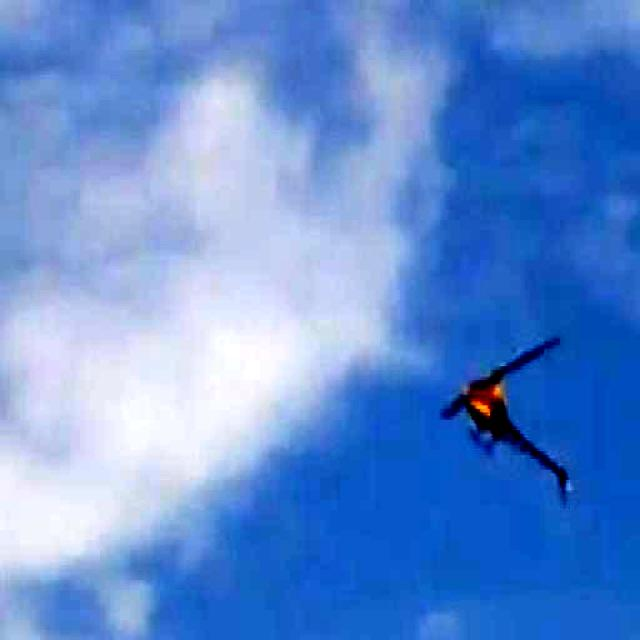drone: (439, 321, 580, 506)
